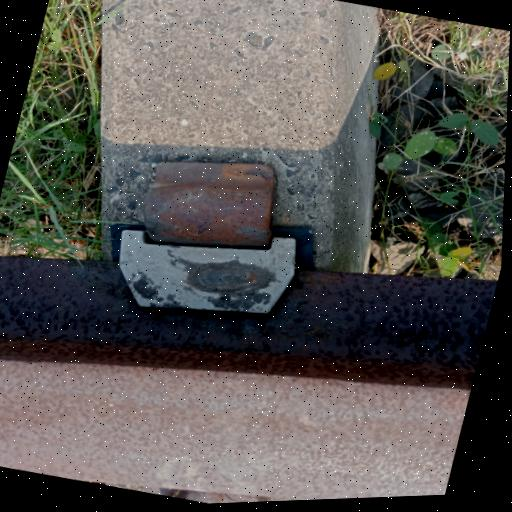mf: (60, 109, 448, 352)
